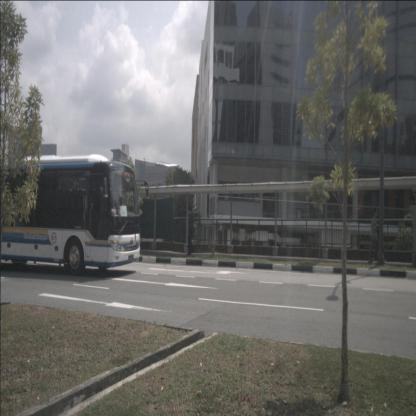human-pedestrian-adult: (368, 207, 382, 264), (186, 206, 194, 256)
vehicle-bus-rigid: (0, 153, 140, 277)
